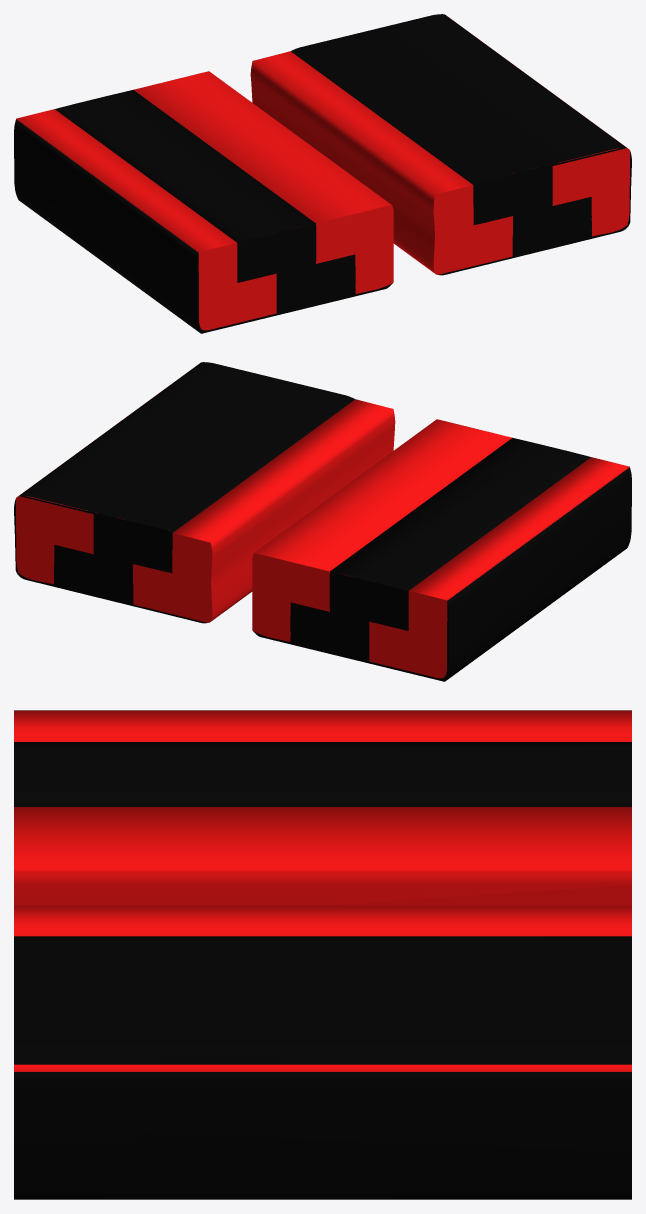
The model's file is Toadz_3860.glb.
3 views of the same model, one above another, from view 1: azimuth 30°, elevation 25°; view 2: azimuth 150°, elevation 25°; view 3: azimuth 270°, elevation 25° (orthographic). The views are drawn at different scales.
Visible parts, largest first — view 1: Curve; view 2: Curve; view 3: Curve.
Part boxes in pixels (x1,y1,x2,y2): Curve: [14, 14, 631, 333]; Curve: [14, 362, 631, 681]; Curve: [14, 710, 631, 1199].
Bounding box in the file's own units: 1.38 × 0.2555 × 1.
